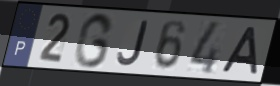2: (37, 12, 72, 65)
4: (188, 20, 221, 76)
6: (152, 19, 187, 72)
A: (218, 25, 259, 76)
G: (72, 11, 116, 70)
J: (115, 20, 150, 68)
